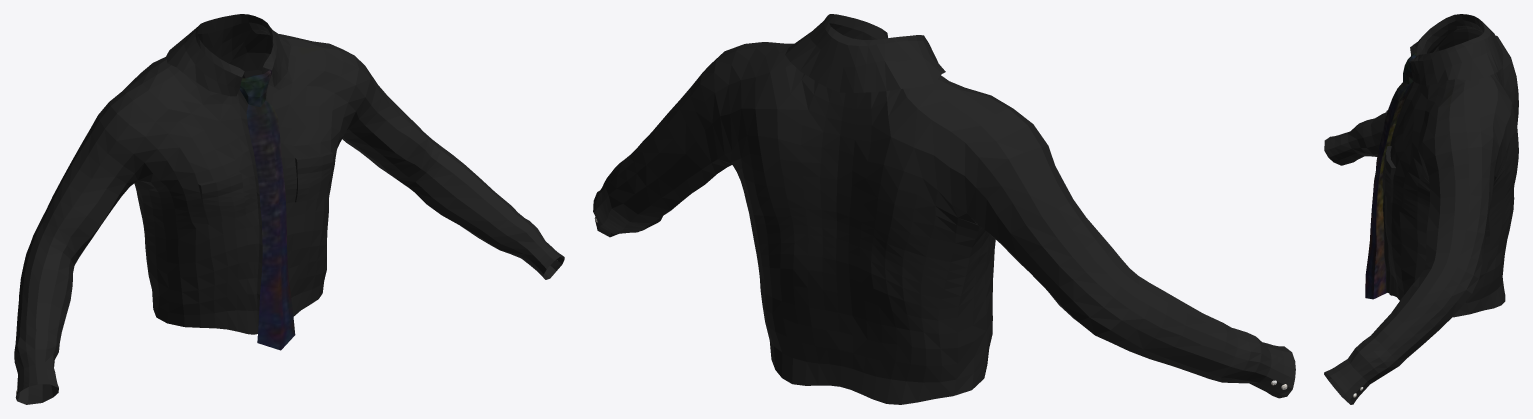
The model's file is mhw_elvs_male_shirt_tie_tucked1.glb.
3 renders of one model, left to right at view 1: azimuth 30°, elevation 25°; view 2: azimuth 150°, elevation 25°; view 3: azimuth 270°, elevation 25°, orthographic. The views are drawn at different scales.
Visible parts, largest first — view 1: mhw_elvs_male_shirt_tie_tucked1; view 2: mhw_elvs_male_shirt_tie_tucked1; view 3: mhw_elvs_male_shirt_tie_tucked1.
Boxes of the visible parts, x1,y1,x2,y2 form: mhw_elvs_male_shirt_tie_tucked1: (14, 14, 564, 404); mhw_elvs_male_shirt_tie_tucked1: (593, 14, 1295, 404); mhw_elvs_male_shirt_tie_tucked1: (1324, 14, 1518, 404).
Bounding box in the file's own units: 1.12 × 0.5638 × 0.3679.
Materials: 1 (1 with a texture image).
